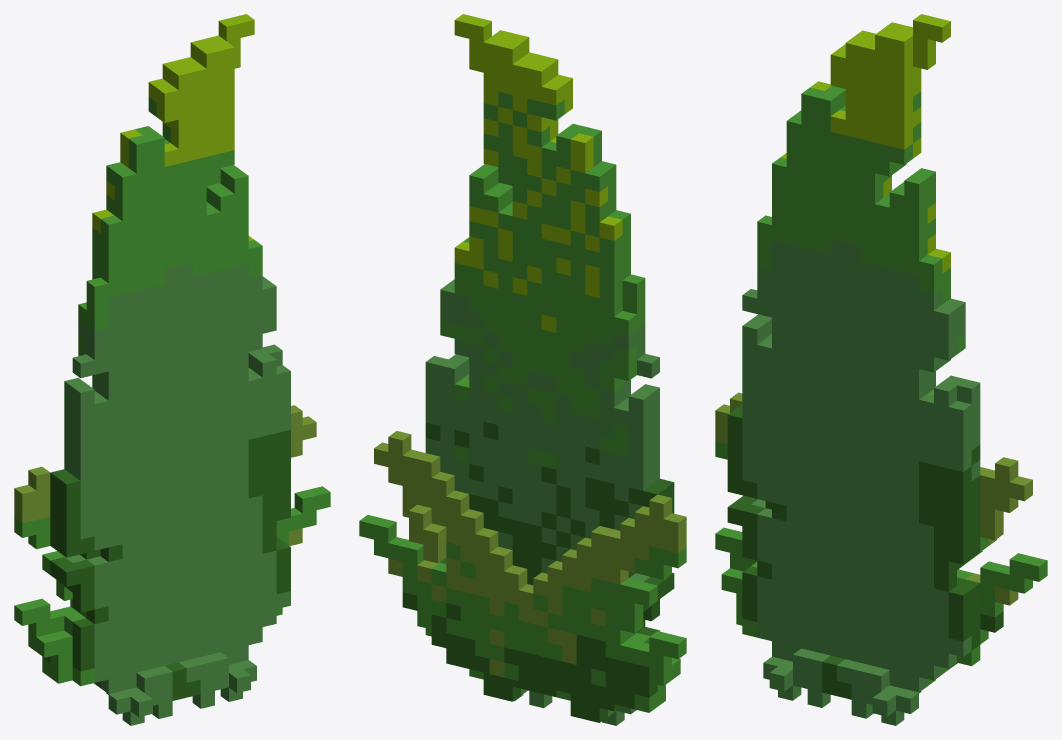
The model's file is cape_lorito.glb.
3 renders of one model, left to right at view 1: azimuth 30°, elevation 25°; view 2: azimuth 150°, elevation 25°; view 3: azimuth 330°, elevation 25°, orthographic. The views are drawn at different scales.
Parts seen in each view (by area): view 1: cape_lorito; view 2: cape_lorito; view 3: cape_lorito.
Boxes of the visible parts, x1,y1,x2,y2 form: cape_lorito: (14, 14, 330, 725); cape_lorito: (359, 14, 686, 725); cape_lorito: (715, 14, 1047, 725).
Size of the model in its own units: 0.946 by 1.93 by 0.258.
Materials: 1 (1 with a texture image).
